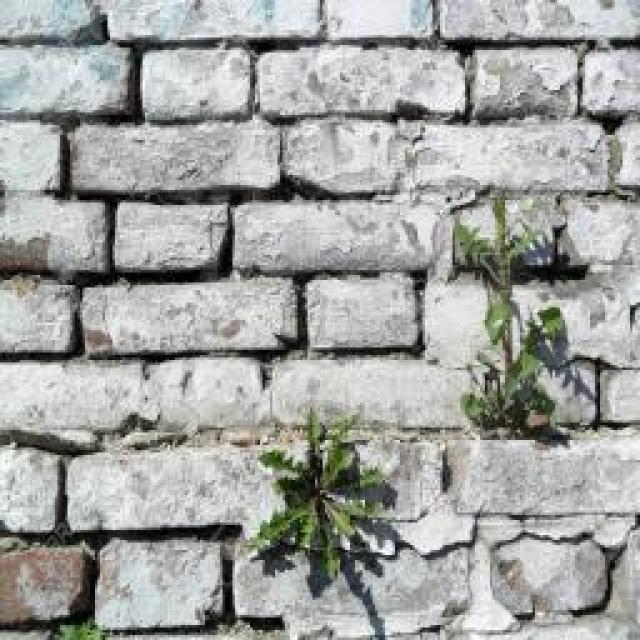crack: (1, 1, 638, 637)
vegetation: (449, 194, 583, 439), (242, 404, 398, 582)
